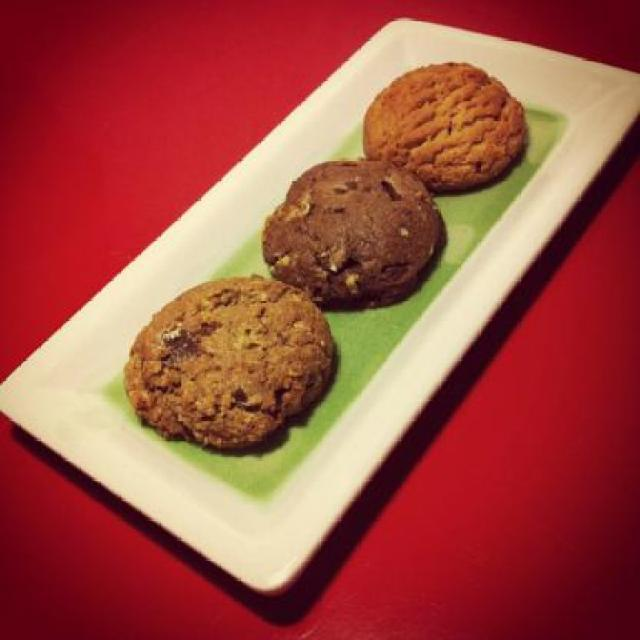Cookie: (130, 270, 332, 452), (254, 154, 443, 312), (359, 57, 530, 197)
